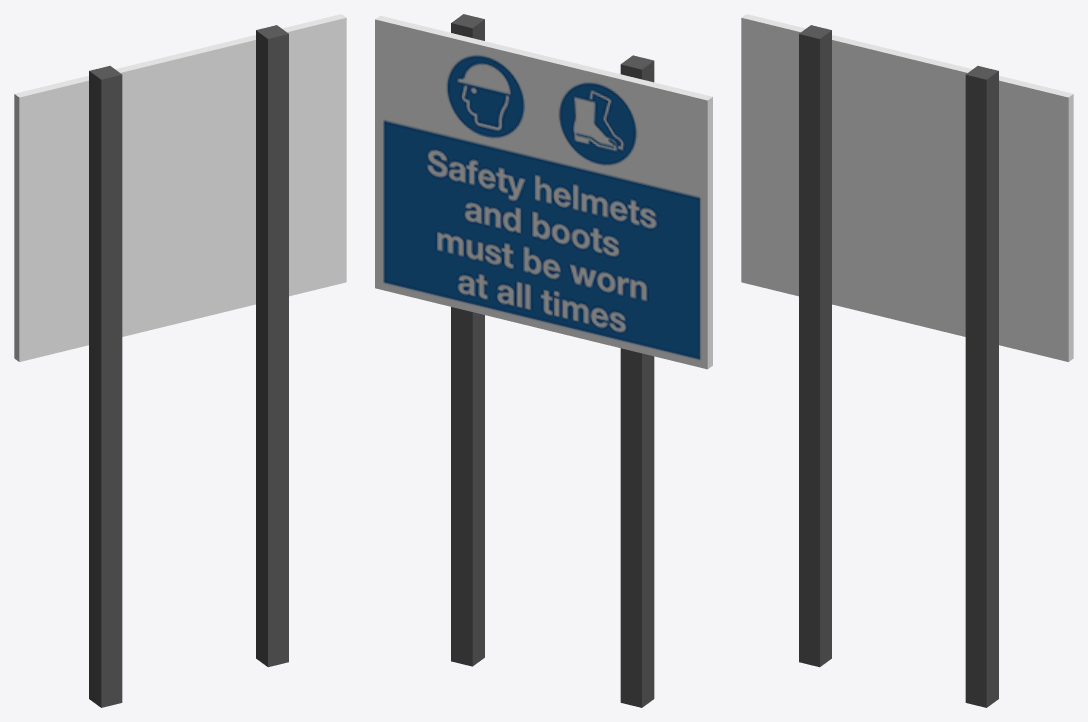
The model's file is SIN0110014.fbx.
The picture shows the model from 3 angles, left to right: view 1: azimuth 30°, elevation 25°; view 2: azimuth 150°, elevation 25°; view 3: azimuth 330°, elevation 25°; orthographic projection.
Parts seen in each view (by area): view 1: smSIN0110014; view 2: smSIN0110014; view 3: smSIN0110014.
Boxes of the visible parts, box(x1,y1,x2,y2) form: smSIN0110014: box(14, 14, 346, 707); smSIN0110014: box(375, 14, 712, 707); smSIN0110014: box(741, 14, 1073, 707).
Bounding box in the file's own units: 164 × 301 × 15.
Materials: 1 (1 with a texture image).
